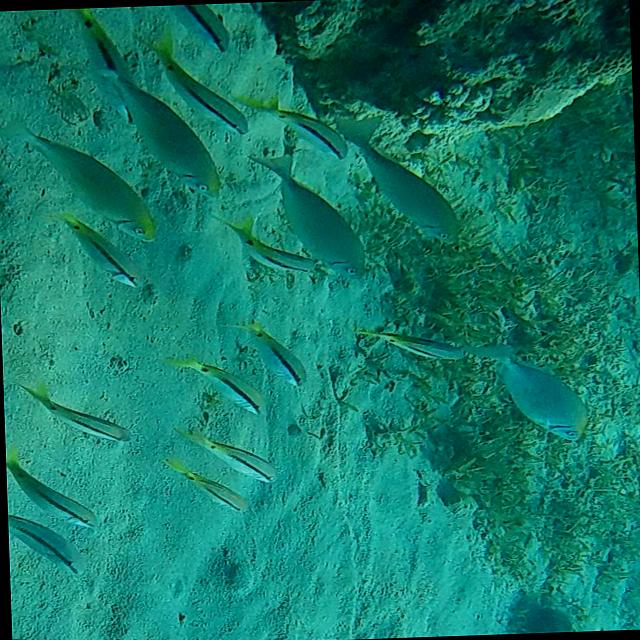Sokar Baligi: (333, 100, 472, 258), (457, 324, 595, 456), (8, 381, 140, 448)
